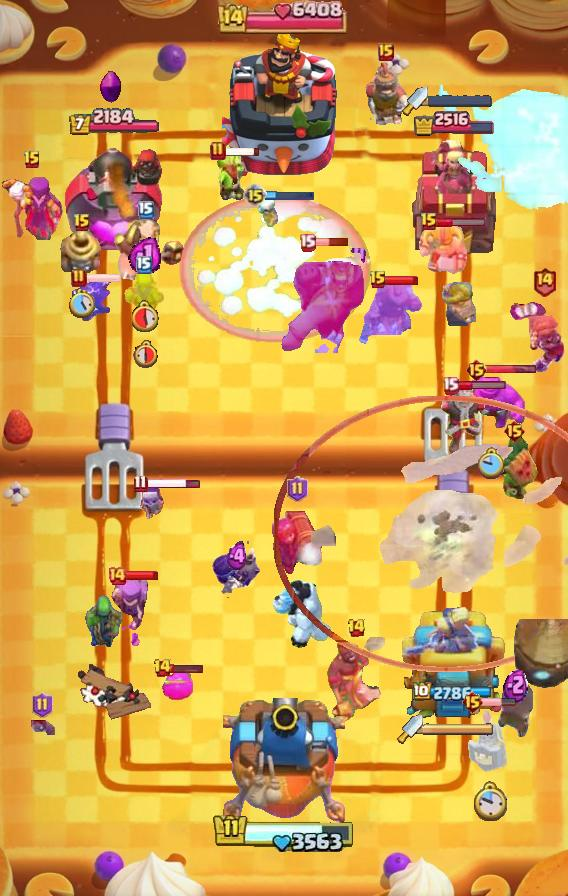bar: (146, 477, 201, 490), (264, 189, 316, 202), (485, 364, 537, 375), (456, 380, 507, 391), (436, 217, 487, 228), (85, 272, 122, 284), (224, 146, 261, 157), (169, 663, 204, 674), (125, 570, 159, 581), (385, 275, 419, 286), (481, 697, 517, 707), (314, 237, 349, 247)
bar-level: (532, 266, 557, 297), (243, 183, 267, 207), (461, 690, 484, 714), (503, 419, 526, 443), (465, 358, 488, 382), (32, 692, 53, 718), (287, 476, 308, 502), (107, 566, 127, 586), (153, 658, 172, 678), (347, 618, 366, 638), (369, 270, 387, 290), (73, 213, 91, 233), (420, 212, 438, 232), (23, 150, 41, 170), (442, 376, 459, 395), (299, 233, 316, 252), (71, 268, 87, 288), (210, 141, 226, 161), (136, 256, 152, 274), (138, 201, 154, 219), (378, 43, 394, 61), (133, 474, 148, 493)
bat: (29, 716, 55, 735)
bomber-evolution: (211, 548, 263, 604)
cannoneer-tower: (64, 138, 165, 256)
clock: (472, 781, 507, 823), (478, 447, 506, 479), (132, 300, 160, 332), (131, 339, 158, 368), (69, 289, 95, 318)
dagger-duchess-tower: (399, 607, 507, 731), (409, 138, 497, 256)
dagger-duchess-tower-bar: (423, 722, 495, 736), (428, 95, 492, 107)
dart-goblin: (486, 432, 542, 504)
electro-spirit: (69, 279, 111, 325)
elite-barbarian: (416, 223, 470, 275), (440, 280, 476, 327)
elixir: (128, 235, 161, 273), (503, 667, 528, 703), (226, 541, 249, 572)
elixir-golem-mid: (458, 374, 526, 430)
elixir-golem-small: (161, 670, 193, 700)
evolution-symbol: (100, 70, 122, 104)
firecracker-evolution: (268, 497, 326, 577)
goblin: (122, 264, 166, 319), (217, 151, 247, 201)
guard: (468, 707, 510, 775)
ice-wizard: (422, 383, 504, 455)
king-tower: (222, 31, 346, 181), (223, 698, 345, 826)
king-tower-bar: (212, 813, 356, 855), (217, 0, 351, 34)
mother-witch: (107, 572, 151, 650)
musketeer: (497, 679, 533, 739)
royal-recruit: (359, 63, 413, 129)
skeleton: (256, 197, 280, 227)
skeleton-evolution: (137, 486, 169, 526)
spear-goblin: (84, 593, 124, 651)
tower-bar: (68, 108, 161, 137), (412, 109, 495, 137), (413, 682, 494, 703)
valkyrie-evolution: (510, 299, 568, 373)
witch: (0, 174, 64, 240)
zappy: (59, 229, 105, 275)
